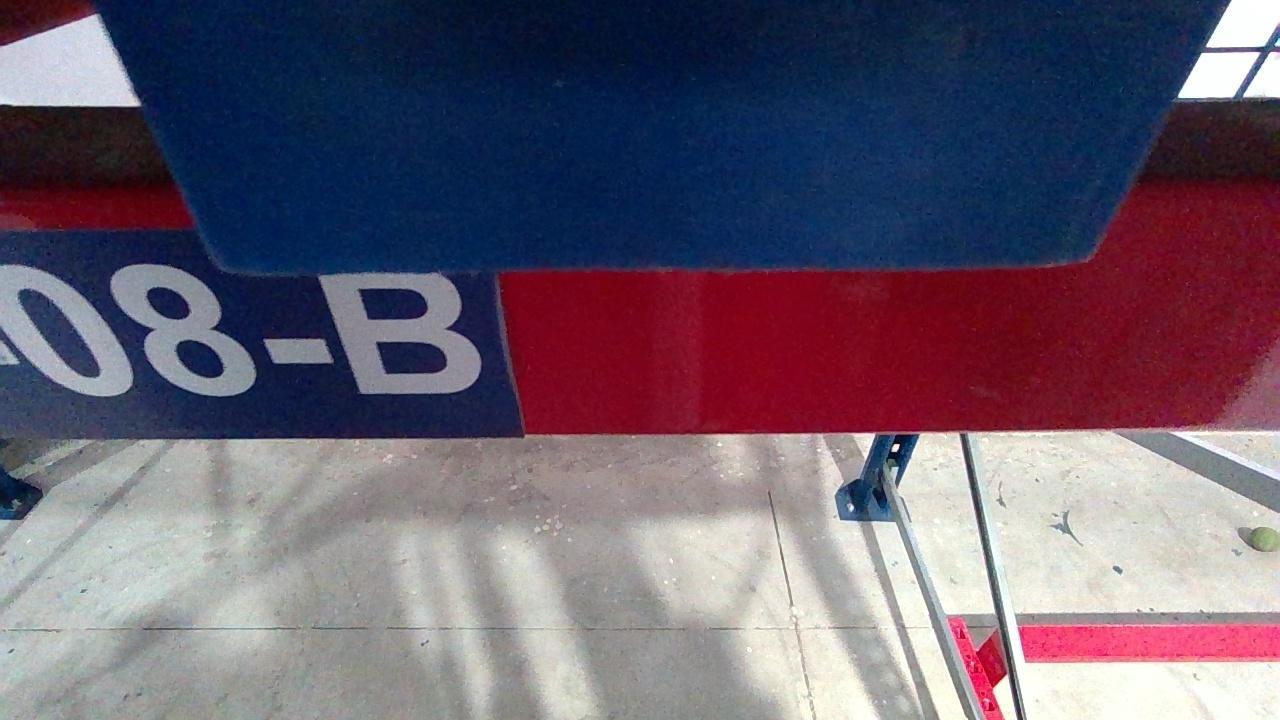h_rack: (0, 188, 1280, 433)
